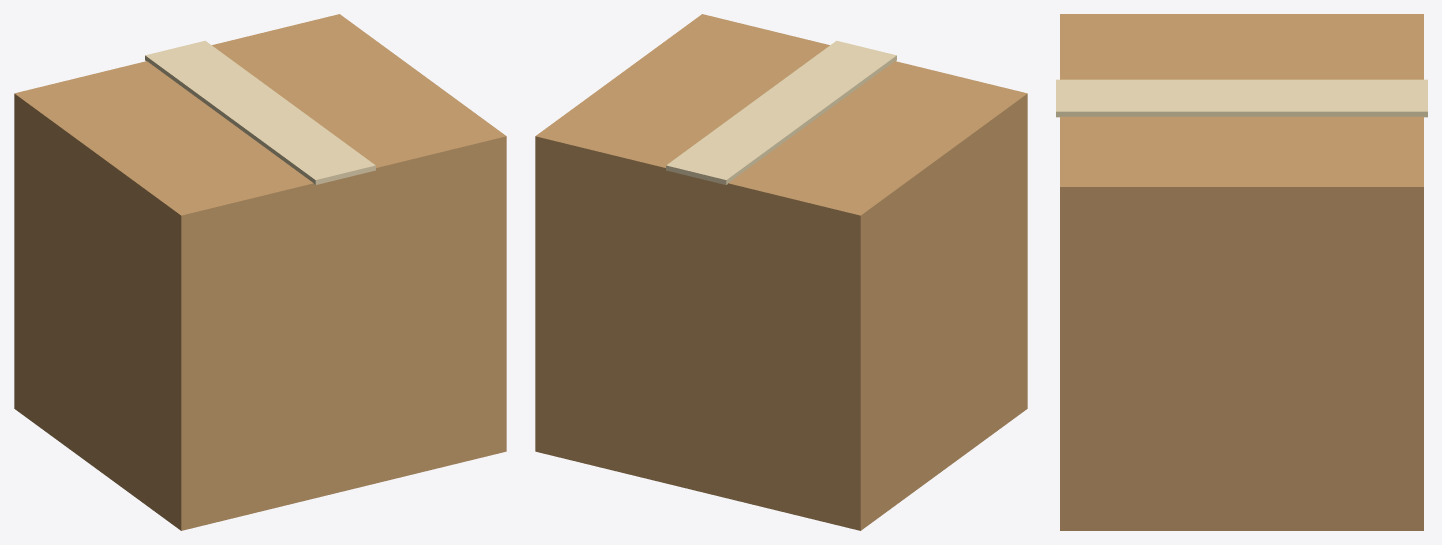
File: parcel.glb
The picture shows the model from 3 angles, left to right: view 1: azimuth 30°, elevation 25°; view 2: azimuth 150°, elevation 25°; view 3: azimuth 270°, elevation 25°; orthographic projection. The views are drawn at different scales.
Visible parts, largest first — view 1: Parcel, Tape; view 2: Parcel, Tape; view 3: Parcel, Tape.
Boxes of the visible parts, left/top/right/bottom form: Parcel: left=14, top=14, right=506, bottom=530; Tape: left=145, top=40, right=375, bottom=184; Parcel: left=535, top=14, right=1027, bottom=530; Tape: left=666, top=40, right=896, bottom=184; Parcel: left=1060, top=14, right=1423, bottom=530; Tape: left=1056, top=79, right=1427, bottom=117.
Size of the model in its own units: 0.54 by 0.507 by 0.49.
